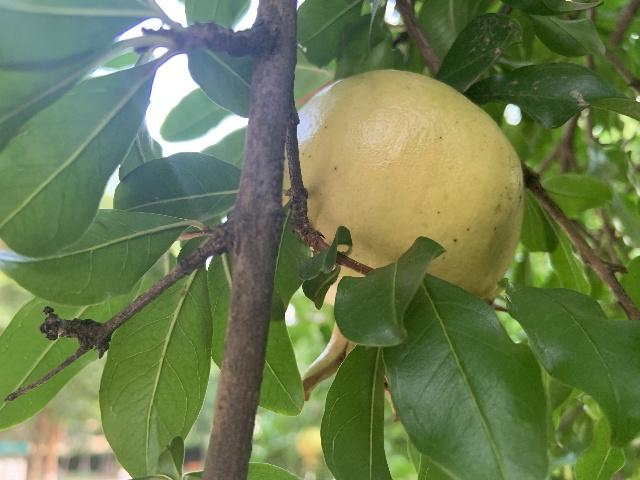mid-growth: (282, 69, 524, 402)
